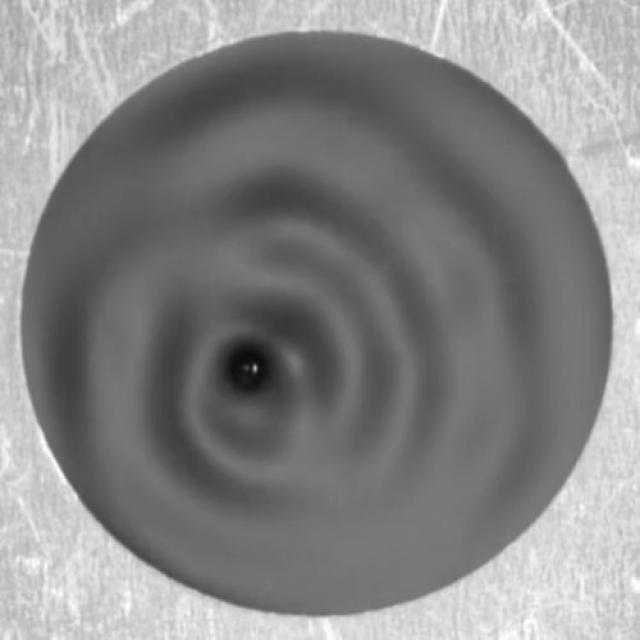droplet: (224, 350, 270, 396)
